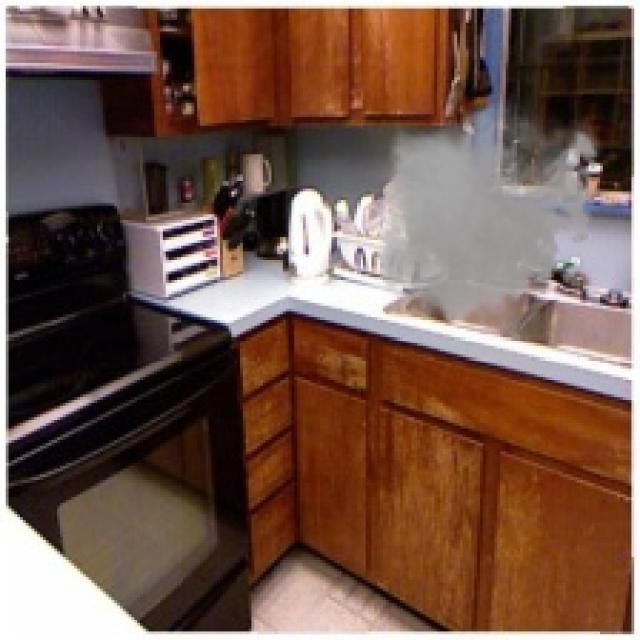Smoke: (368, 91, 606, 332)
